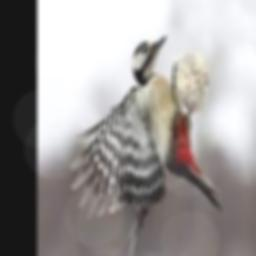Woodpecker: (70, 35, 222, 256)
